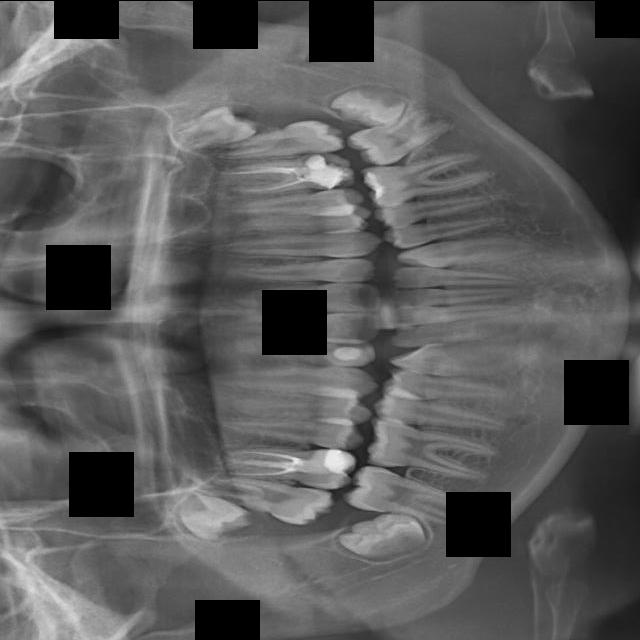3M ESPE Implant: (166, 483, 258, 553)
AGS Medikal Implant: (224, 257, 377, 282)
AMerOss Implant: (206, 228, 382, 265)
Amalgam filling: (227, 206, 373, 239)
Anthogyr Implant: (225, 186, 366, 217)
Bicon Implant: (212, 148, 357, 198)
BioHorizons Implant: (210, 117, 346, 160)
BioLife Implant: (164, 94, 264, 156)
Biomet 3i Implant: (325, 77, 409, 132)
Blue Sky Bio Implant: (344, 96, 462, 176)
Camlog Implant: (360, 145, 500, 209)
Caries: (250, 509, 251, 509)
Composite filling: (374, 181, 512, 230)
Cowellmedi Implant: (381, 207, 510, 252)
Crown: (394, 229, 542, 272)
DENTSPLY Implant: (391, 263, 528, 288)
Dentatus Implant: (391, 285, 525, 307)
Dentis Implant: (389, 302, 526, 327)
Dentium Implant: (388, 309, 536, 351)
Euroteknika Implant: (389, 342, 538, 377)
Filling: (381, 365, 517, 411)
Frontier Implant: (369, 393, 523, 440)
Hiossen Implant: (212, 436, 359, 492)
Implant: (339, 460, 478, 529)
Implant Direct: (361, 417, 501, 492)
Keystone Dental Implant: (333, 503, 430, 572)
MIS Implant: (219, 417, 364, 451)
Mandible: (221, 392, 373, 425)
Maxilla: (204, 360, 379, 397)
Megagen Implant: (230, 335, 377, 367)
Neodent Implant: (223, 313, 384, 340)
Neoss Implant: (221, 282, 382, 312)
